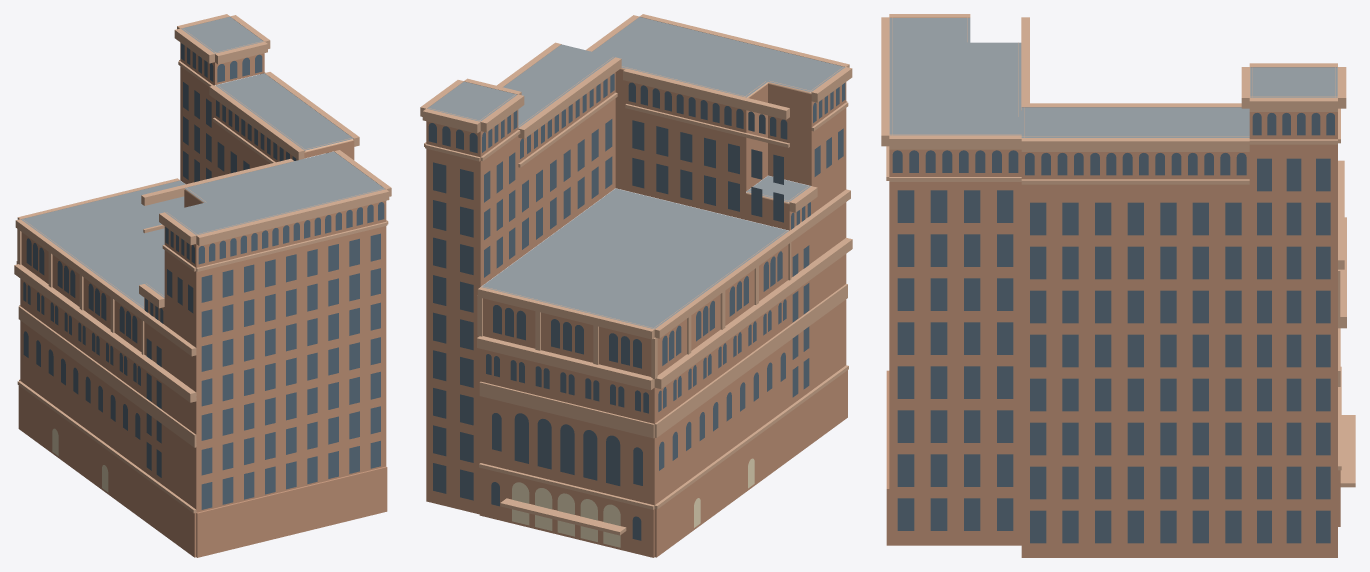
File: nyc-carnegie-hall.glb
The picture shows the model from 3 angles, left to right: view 1: azimuth 30°, elevation 25°; view 2: azimuth 150°, elevation 25°; view 3: azimuth 270°, elevation 25°; orthographic projection. The views are drawn at different scales.
Visible parts, largest first — view 1: Carnegie Hall; view 2: Carnegie Hall; view 3: Carnegie Hall.
Boxes of the visible parts, bbox=[...] form: Carnegie Hall: bbox=[14, 14, 391, 557]; Carnegie Hall: bbox=[420, 14, 852, 557]; Carnegie Hall: bbox=[881, 14, 1355, 557].
Size of the model in its own units: 44.3 by 69 by 64.5.
